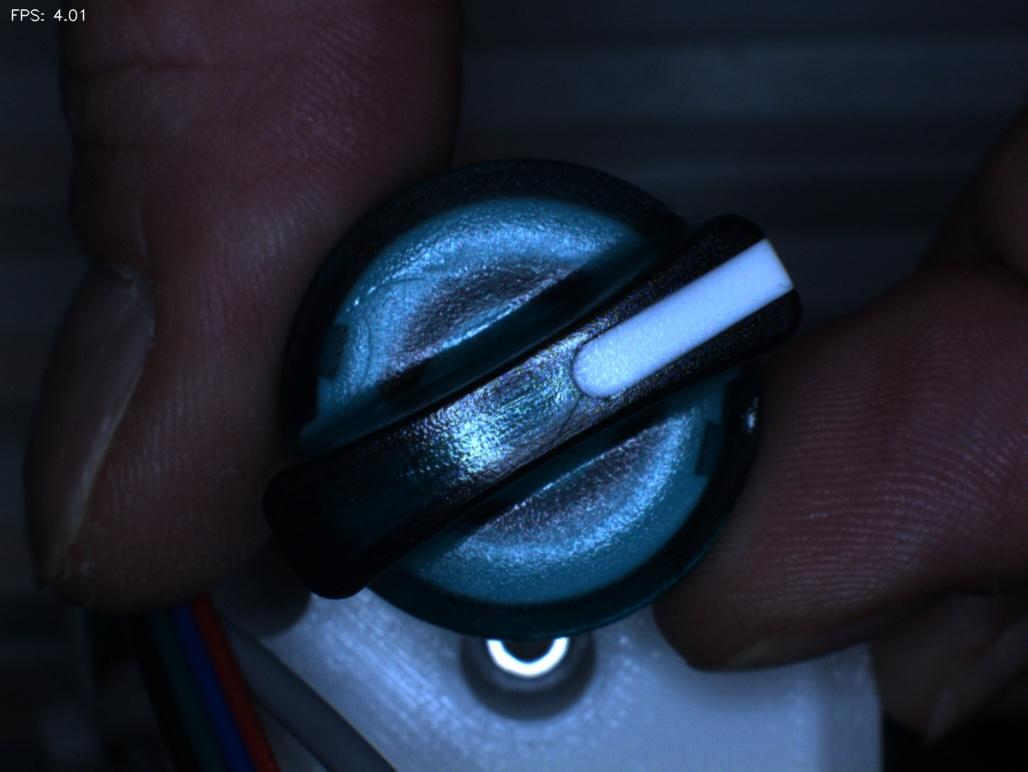Choc: (711, 379, 803, 475)
